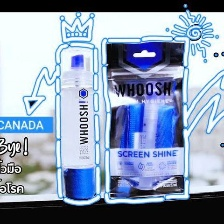cleaning_solution: (53, 39, 101, 204)
